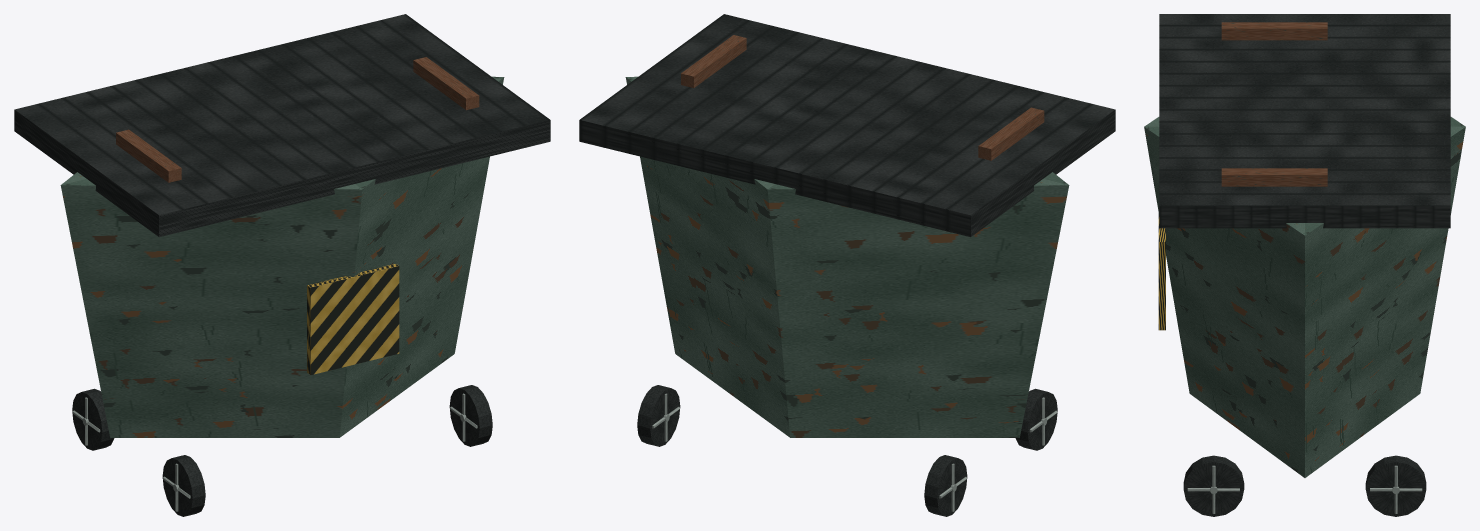
The model's file is Dumpster.glb.
3 views of the same model, side by side, from view 1: azimuth 30°, elevation 25°; view 2: azimuth 150°, elevation 25°; view 3: azimuth 270°, elevation 25° (orthographic).
Parts seen in each view (by area): view 1: Dumpster; view 2: Dumpster; view 3: Dumpster.
Boxes of the visible parts, x1,y1,x2,y2 form: Dumpster: [14, 14, 550, 516]; Dumpster: [579, 14, 1115, 516]; Dumpster: [1144, 14, 1465, 516].
Bounding box in the file's own units: 1.7 × 1.25 × 1.06.
Materials: 5 (5 with a texture image).
